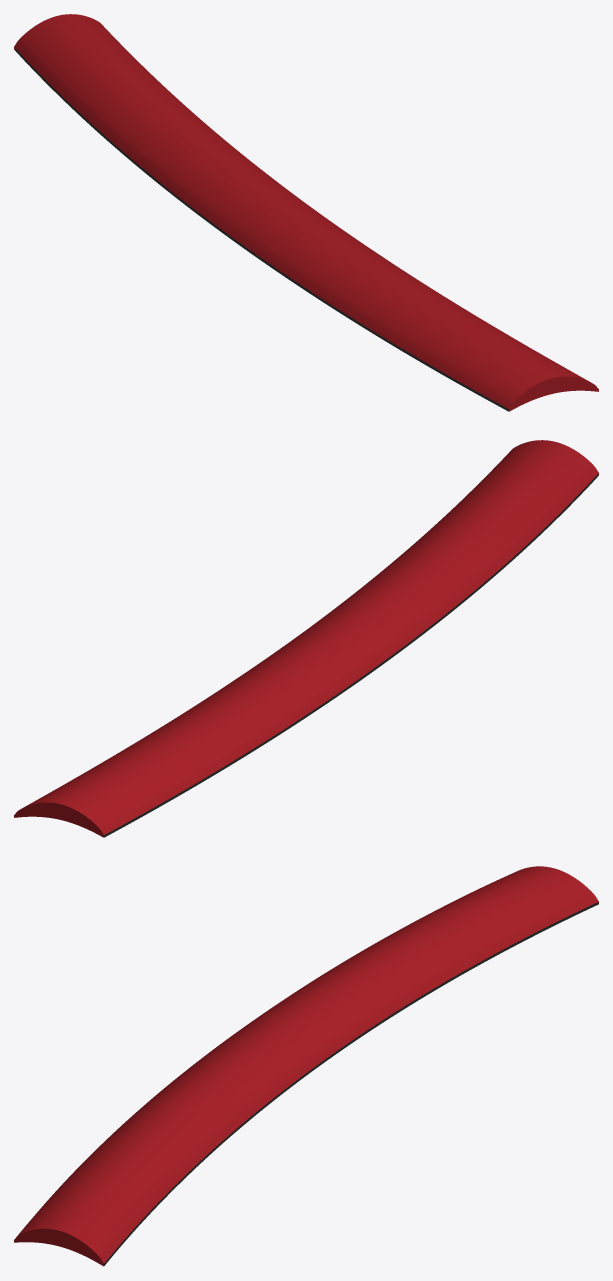
3 views of the same model, one above another, from view 1: azimuth 30°, elevation 25°; view 2: azimuth 150°, elevation 25°; view 3: azimuth 330°, elevation 25° (orthographic).
Parts seen in each view (by area): view 1: e30body_trunk_rear-lip; view 2: e30body_trunk_rear-lip; view 3: e30body_trunk_rear-lip.
Boxes of the visible parts, left/top/right/bottom form: e30body_trunk_rear-lip: left=14, top=14, right=598, bottom=411; e30body_trunk_rear-lip: left=14, top=440, right=598, bottom=837; e30body_trunk_rear-lip: left=14, top=866, right=598, bottom=1266.
Bounding box in the file's own units: 0.203 × 0.0515 × 1.36.
